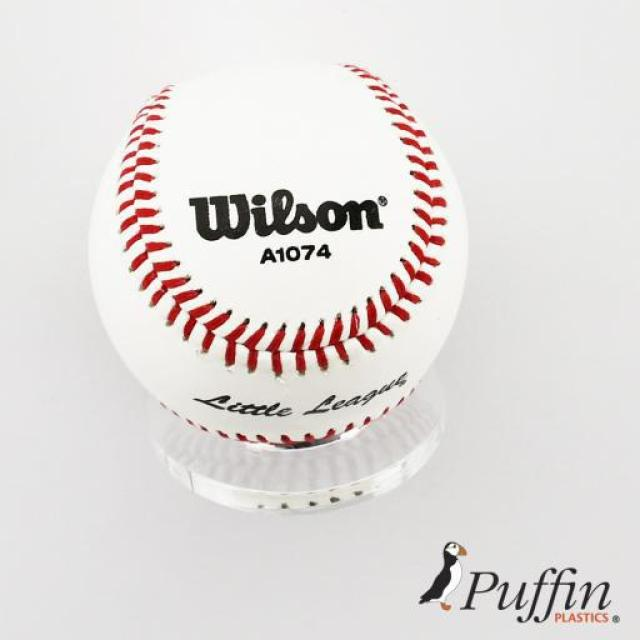ball: (95, 57, 474, 448)
